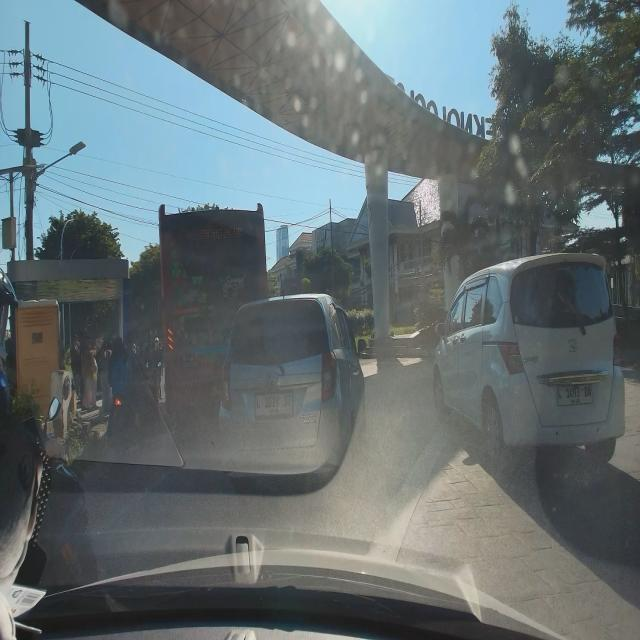bus: (152, 200, 274, 426)
car: (433, 250, 628, 472), (214, 290, 365, 491)
license-plate: (254, 393, 294, 418), (556, 385, 594, 405)
